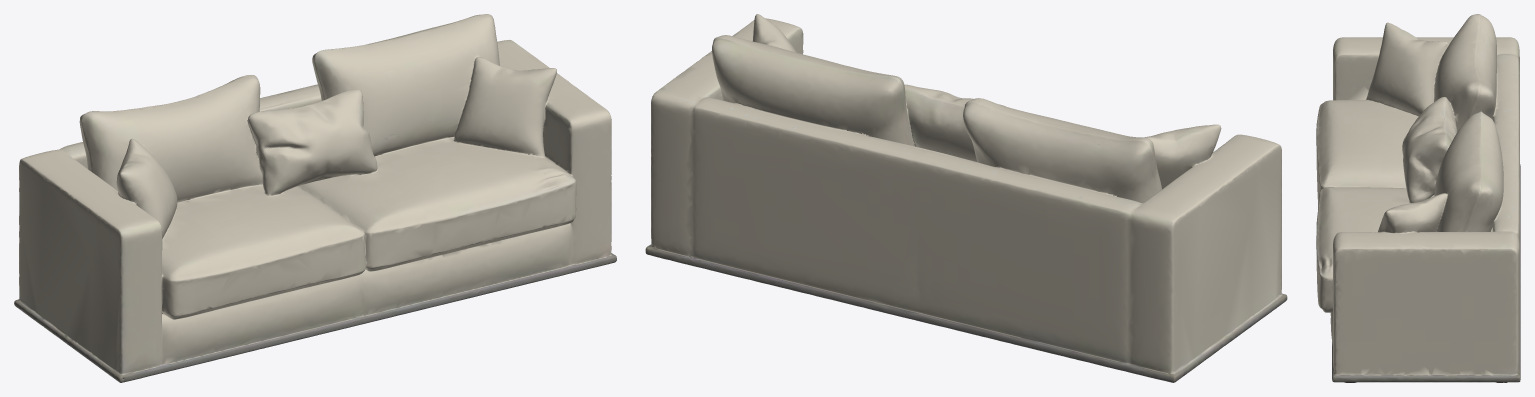
Rendered from sofa.glb.
The picture shows the model from 3 angles, left to right: view 1: azimuth 30°, elevation 25°; view 2: azimuth 150°, elevation 25°; view 3: azimuth 270°, elevation 25°; orthographic projection. The views are drawn at different scales.
Visible parts, largest first — view 1: geometry_0; view 2: geometry_0; view 3: geometry_0.
Part boxes in pixels (<box>): geometry_0: <box>14,14,616,382</box>; geometry_0: <box>645,14,1287,382</box>; geometry_0: <box>1316,14,1520,382</box>.
Bounding box in the file's own units: 2.18 × 0.8657 × 0.8743.
Materials: 1 (1 with a texture image).
